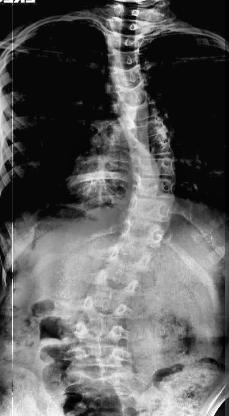Vertebrae: (122, 192, 178, 221), (104, 240, 154, 272), (73, 342, 131, 368), (79, 310, 129, 340), (124, 119, 174, 145), (93, 268, 138, 296), (86, 292, 130, 320), (119, 220, 170, 244), (130, 155, 180, 179), (132, 174, 180, 198), (116, 100, 164, 124), (128, 136, 176, 158), (112, 82, 154, 106), (113, 63, 149, 91), (112, 47, 144, 73)
